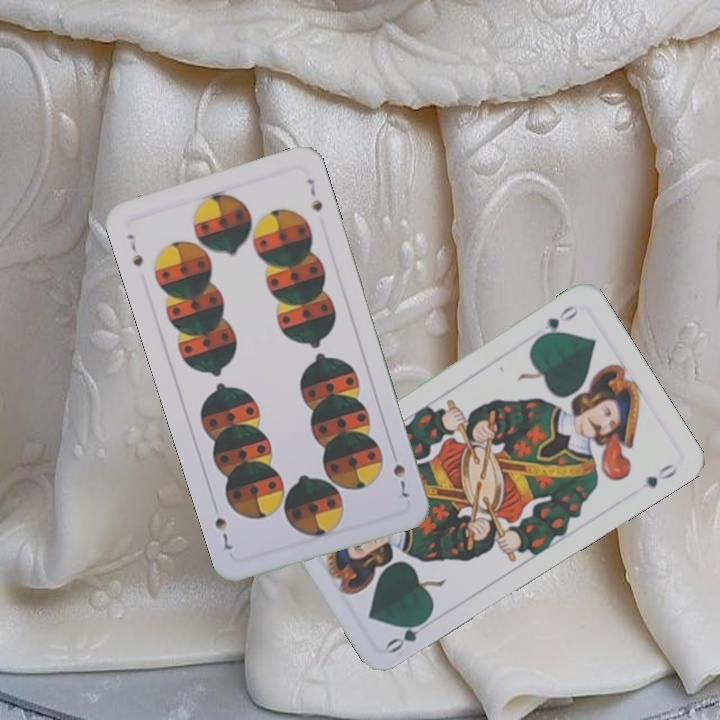GO: (382, 611, 433, 656), (532, 301, 581, 343)
S7: (389, 460, 413, 504), (123, 230, 146, 270)
